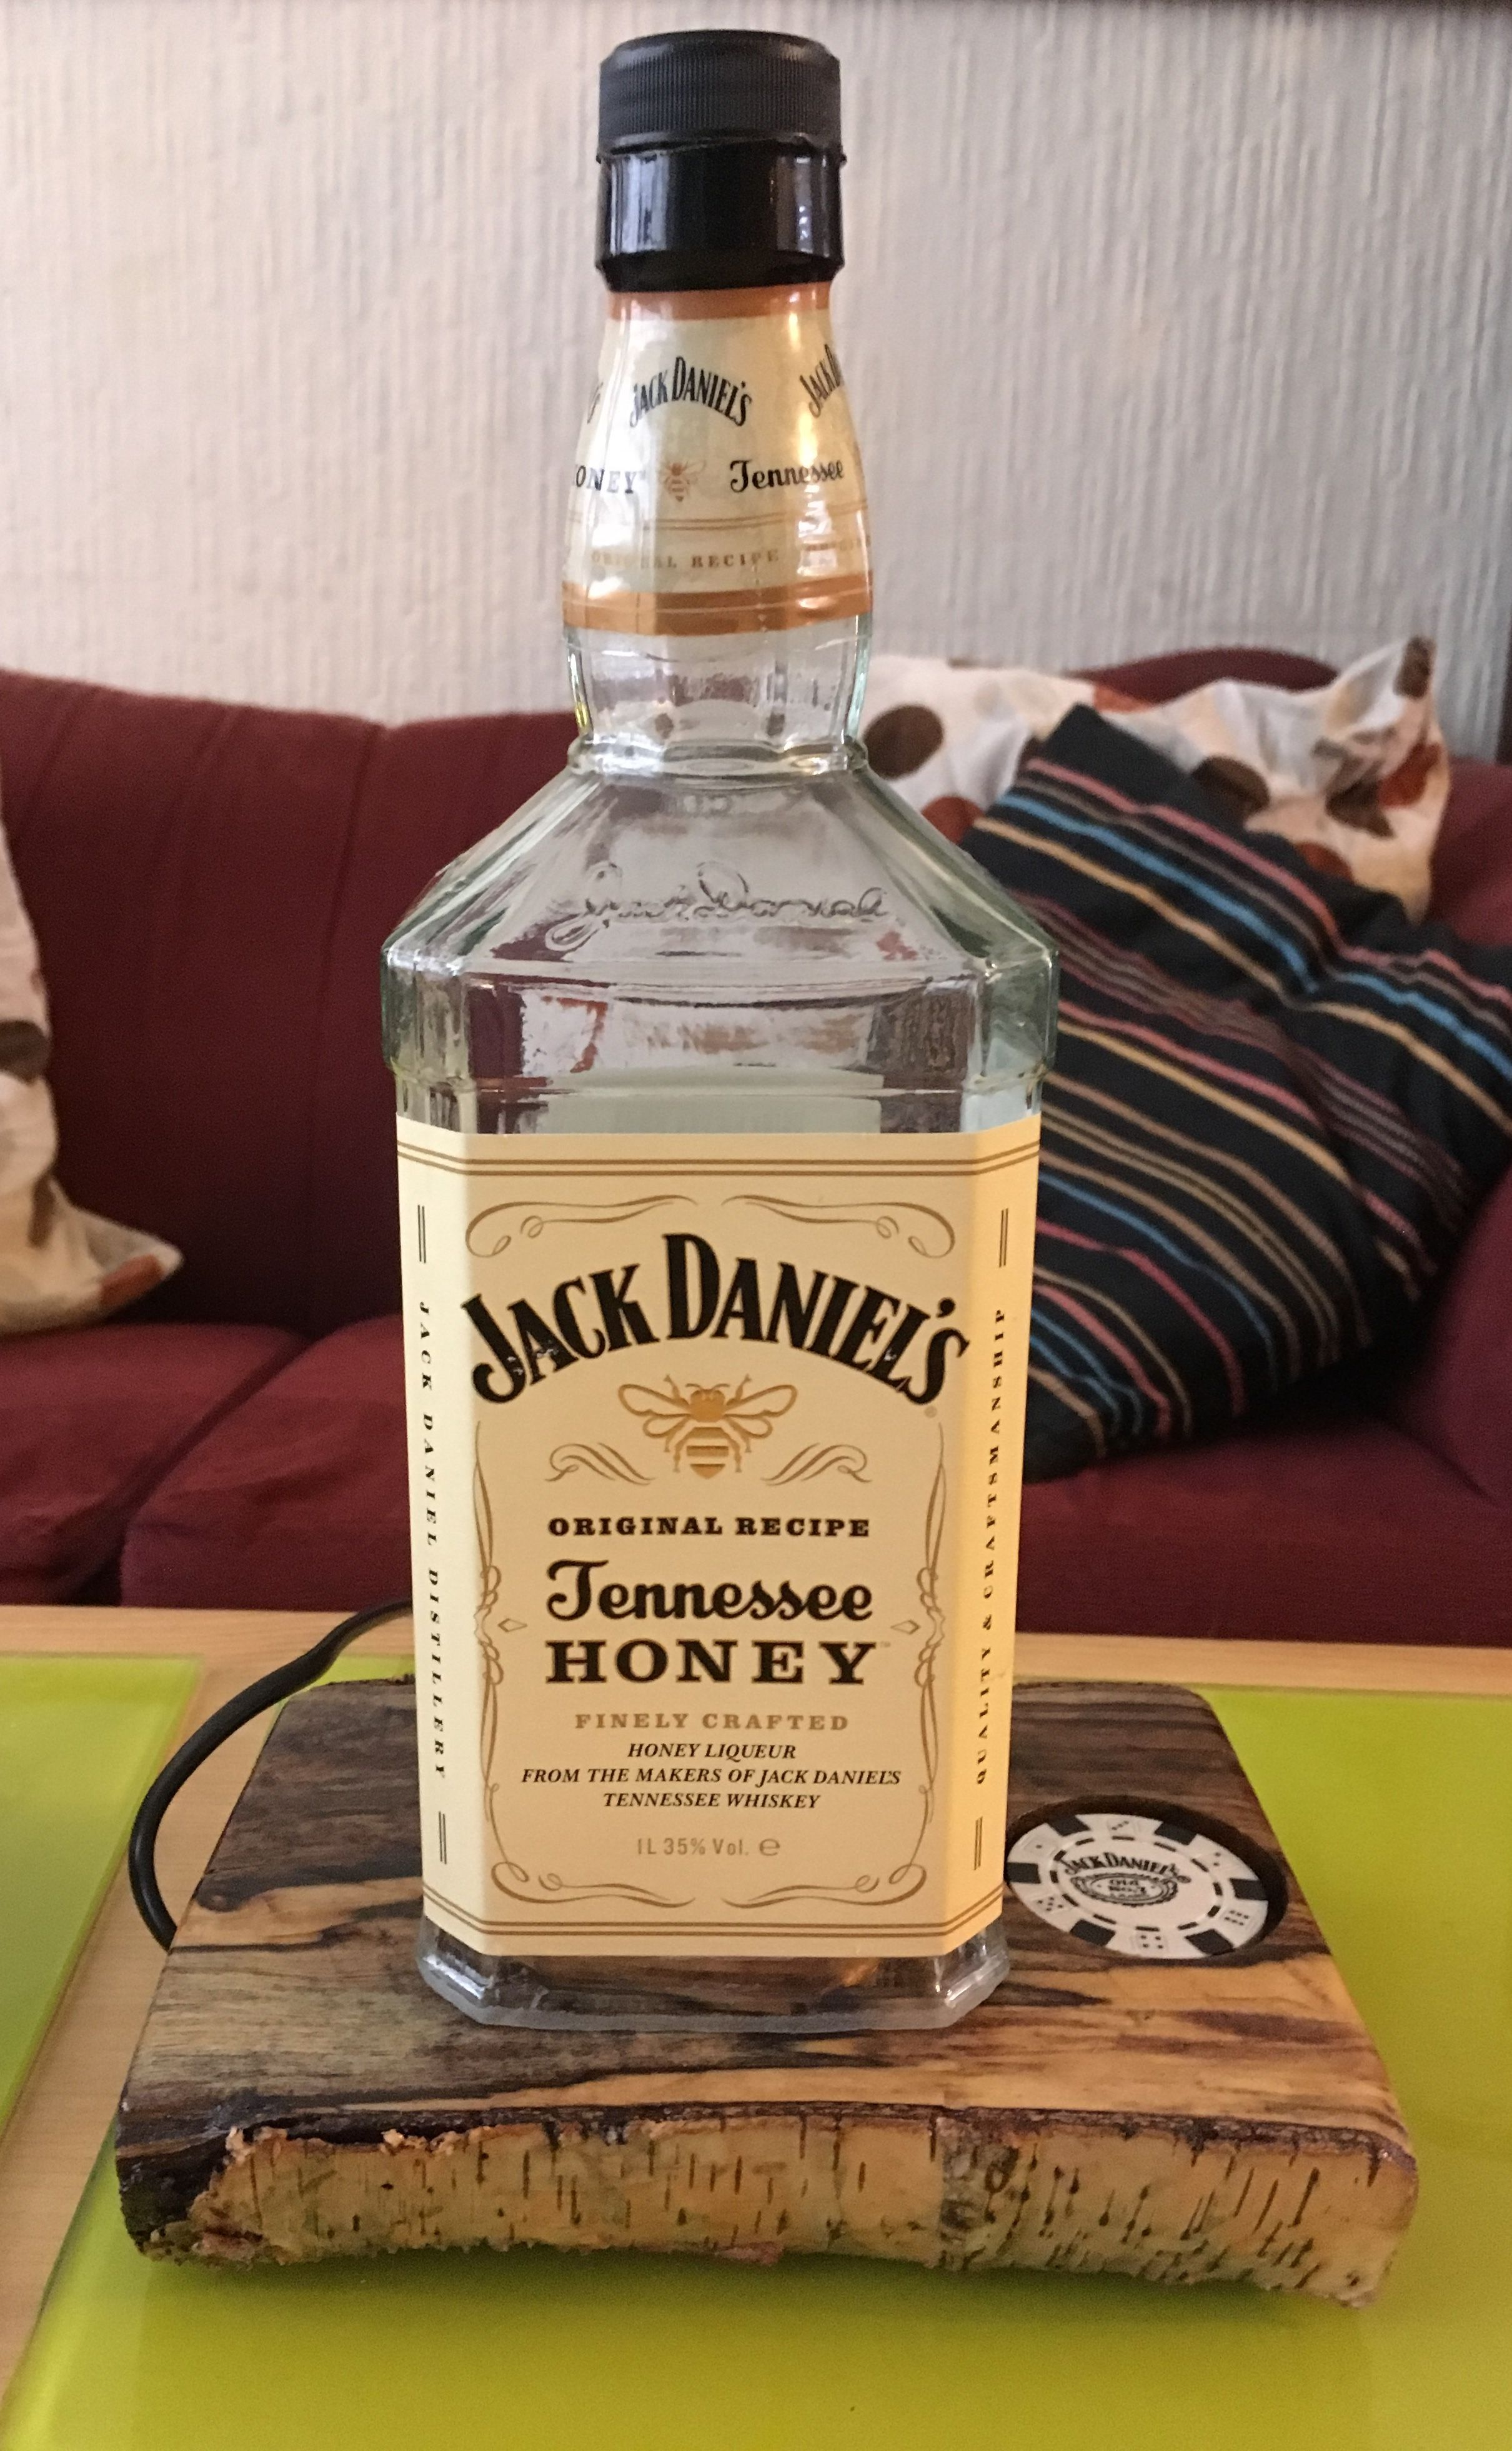Jack Daniel: (320, 12, 1099, 2085)
